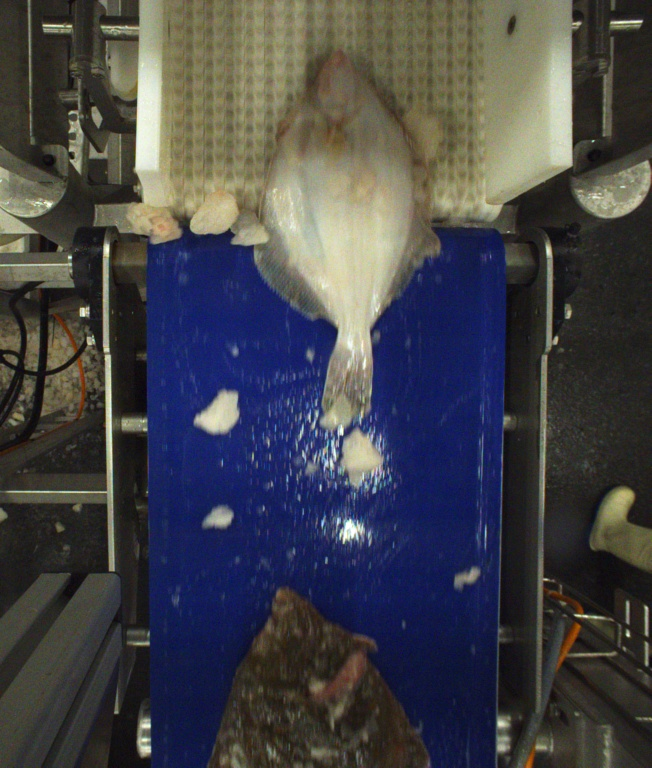PLE: (255, 50, 431, 429)
